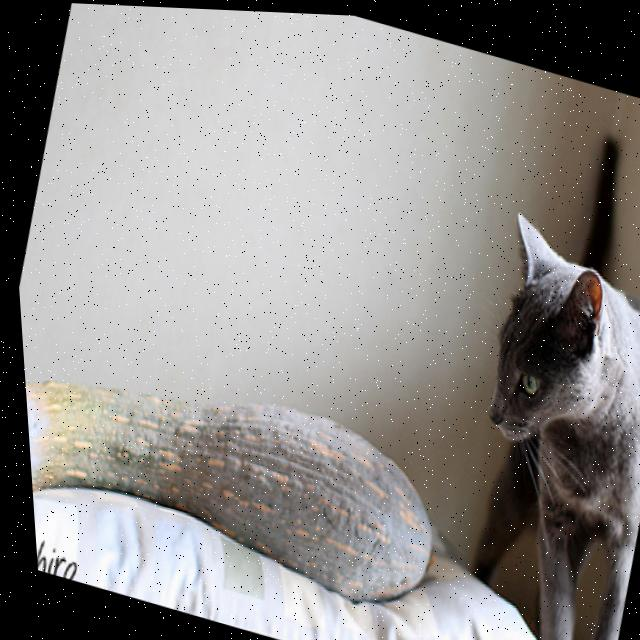Russian Blue: (389, 189, 640, 640)
